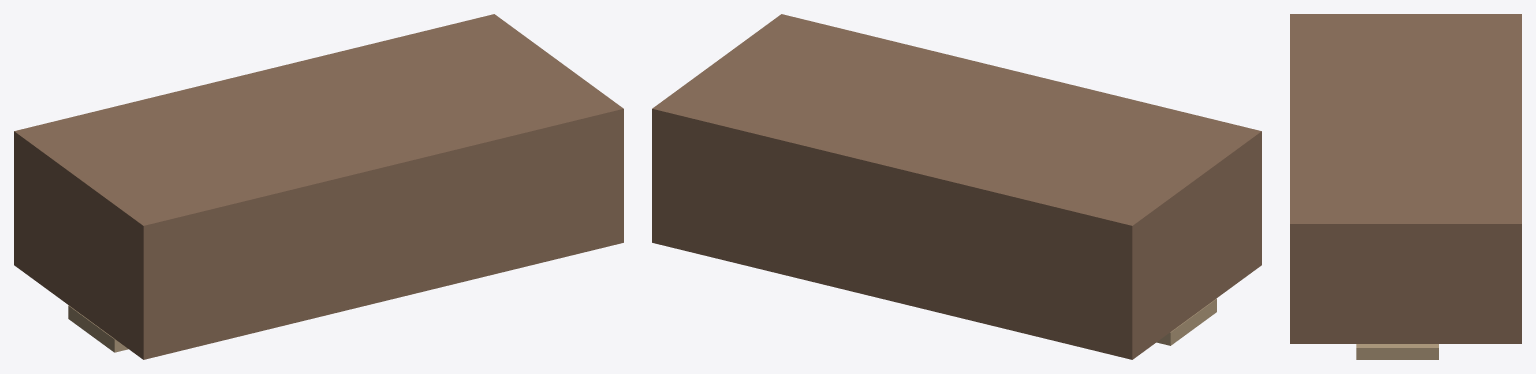
Rendered from chocolate.glb.
3 views of the same model, side by side, from view 1: azimuth 30°, elevation 25°; view 2: azimuth 150°, elevation 25°; view 3: azimuth 270°, elevation 25° (orthographic). The views are drawn at different scales.
Visible parts, largest first — view 1: 00_package, 03_chocolate_square; view 2: 00_package, 03_chocolate_square; view 3: 00_package, 07_chocolate_square.
Boxes of the visible parts, left/top/right/bottom form: 00_package: left=14, top=14, right=623, bottom=359; 03_chocolate_square: left=68, top=305, right=128, bottom=352; 00_package: left=652, top=14, right=1261, bottom=359; 03_chocolate_square: left=1156, top=298, right=1216, bottom=345; 00_package: left=1290, top=14, right=1521, bottom=343; 07_chocolate_square: left=1356, top=344, right=1438, bottom=359.
Bounding box in the file's own units: 0.3 × 0.093 × 0.14.
